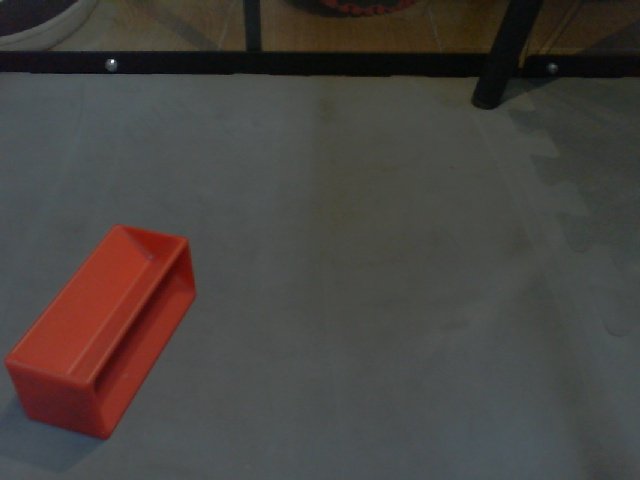RedSample: (8, 223, 201, 441)
